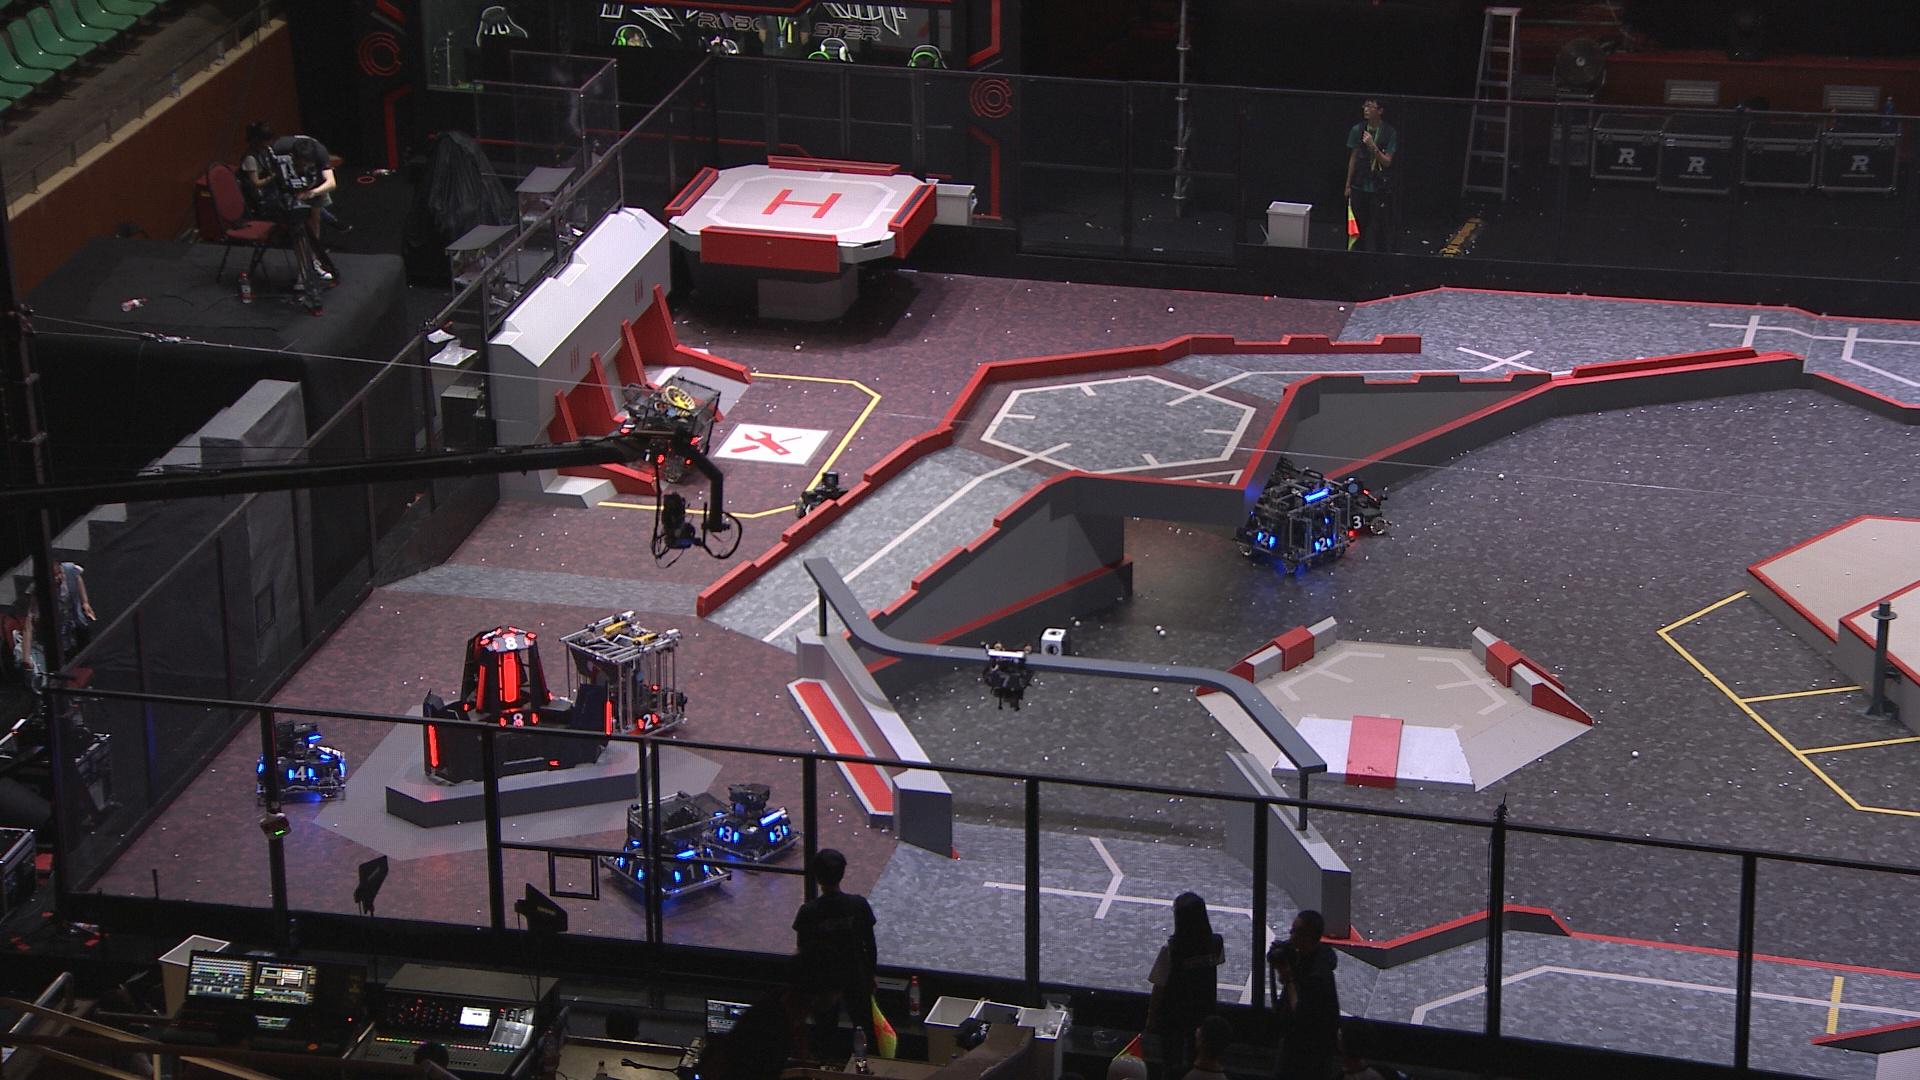armor: (495, 651, 518, 700), (498, 712, 541, 732), (674, 862, 712, 884), (489, 633, 533, 651), (617, 858, 645, 882), (986, 674, 1025, 690), (287, 765, 318, 785), (472, 665, 487, 705), (427, 723, 440, 767), (636, 712, 659, 732), (766, 823, 789, 841), (717, 825, 740, 844), (1254, 529, 1276, 547), (641, 448, 665, 465), (603, 700, 613, 736), (1309, 537, 1332, 553), (315, 744, 338, 760), (1346, 516, 1366, 531), (477, 632, 496, 647), (618, 422, 637, 436), (802, 501, 814, 518)
base: (419, 622, 615, 782)
car: (560, 609, 684, 745), (603, 790, 733, 907), (1234, 460, 1352, 574), (609, 376, 719, 481), (702, 779, 803, 873), (249, 717, 348, 800), (1317, 477, 1390, 541), (794, 469, 858, 531)
watcher: (982, 644, 1035, 716)
